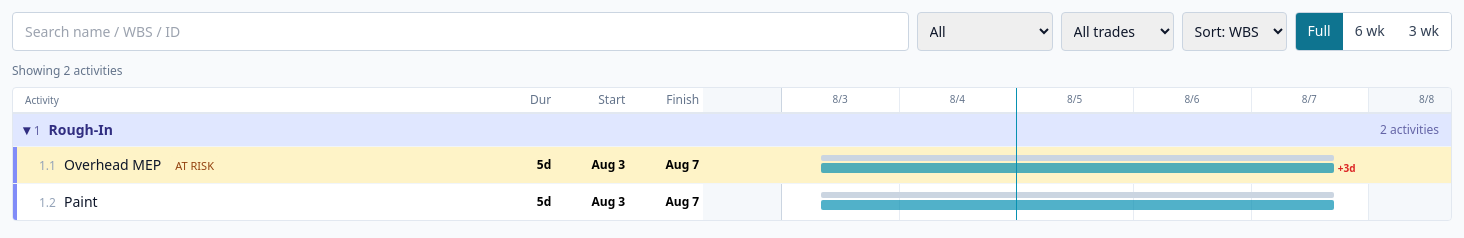
Test: ScheduleBody › search narrows by name
In the field with placeholder "Search name / WBS / ID": x=460, y=32 top-left (12, 12), bottom-right (909, 51), type "paint"
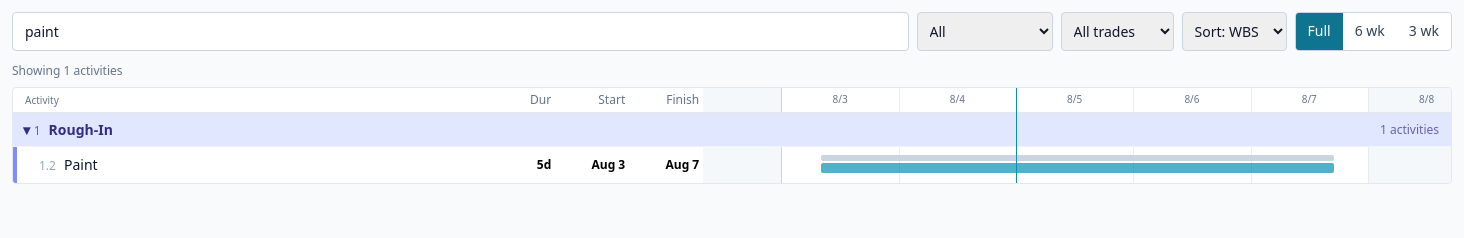
Expected: the text "Paint" is shown, top-left (64, 155), bottom-right (98, 174)
Expected: the button "Overhead MEP" is gone
